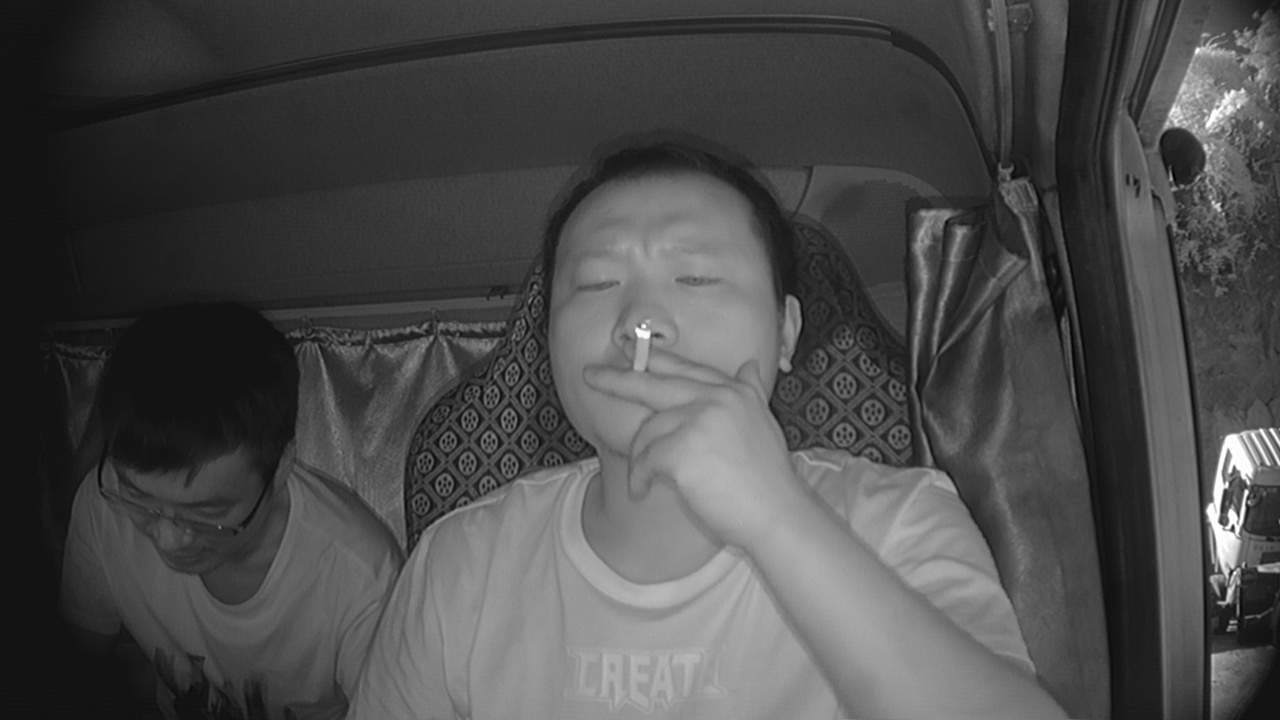hand: (588, 335, 782, 542)
